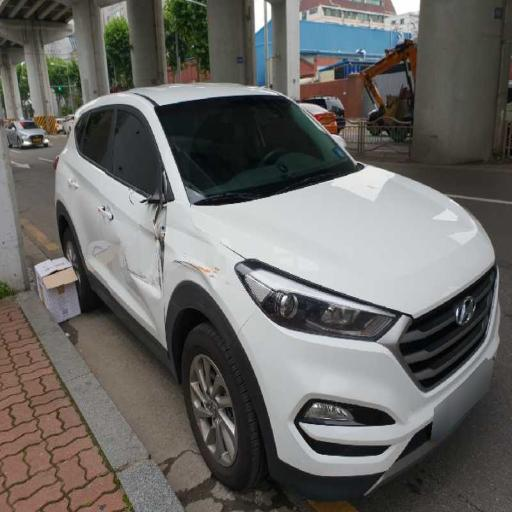broken: (125, 168, 188, 285)
dent: (88, 216, 208, 350)
